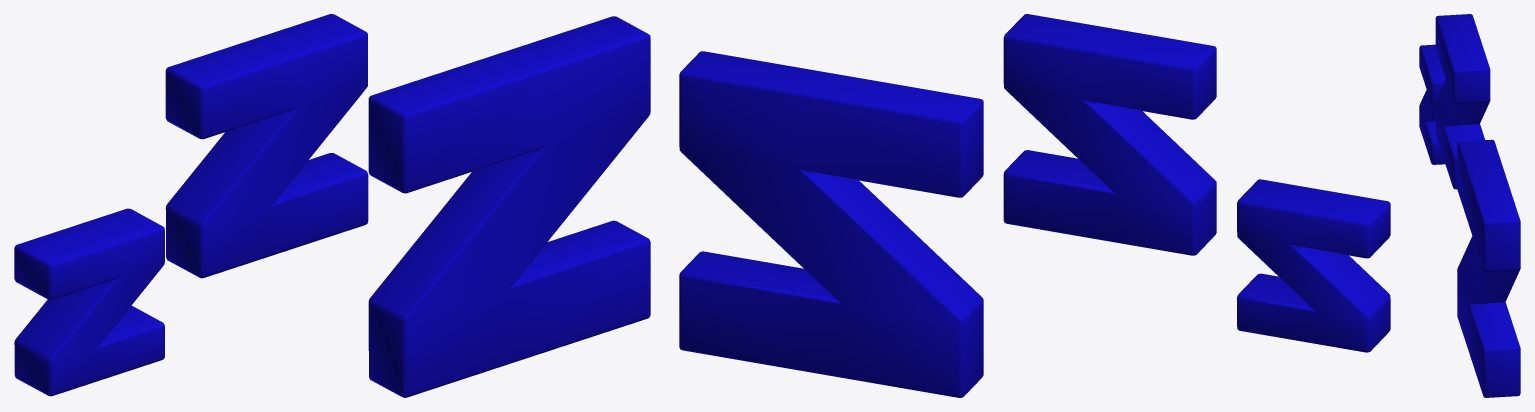
The model's file is Emoji 166 ZZZ.fbx.
The picture shows the model from 3 angles, left to right: view 1: azimuth 30°, elevation 25°; view 2: azimuth 150°, elevation 25°; view 3: azimuth 270°, elevation 25°; orthographic projection. The views are drawn at different scales.
Visible parts, largest first — view 1: Emoji 166 ZZZ; view 2: Emoji 166 ZZZ; view 3: Emoji 166 ZZZ.
Part boxes in pixels (bbox=[...]): Emoji 166 ZZZ: bbox=[14, 14, 650, 397]; Emoji 166 ZZZ: bbox=[679, 14, 1390, 397]; Emoji 166 ZZZ: bbox=[1419, 14, 1520, 397].
Bounding box in the file's own units: 91.65 × 19.63 × 50.33.
